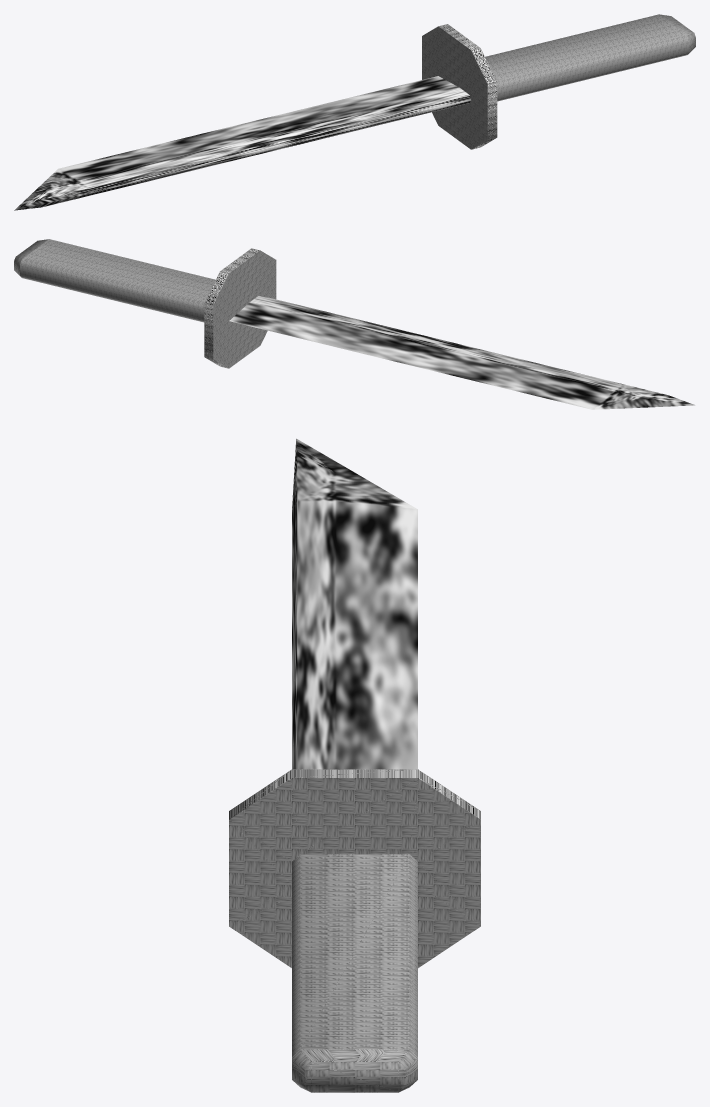
Rendered from kaiken dagger.fbx.
The picture shows the model from 3 angles, top to bottom: view 1: azimuth 30°, elevation 25°; view 2: azimuth 150°, elevation 25°; view 3: azimuth 270°, elevation 25°; orthographic projection. The views are drawn at different scales.
Parts seen in each view (by area): view 1: Dagger.Kaiken; view 2: Dagger.Kaiken; view 3: Dagger.Kaiken.
Part boxes in pixels (bbox=[...]): Dagger.Kaiken: bbox=[14, 14, 695, 210]; Dagger.Kaiken: bbox=[14, 239, 694, 409]; Dagger.Kaiken: bbox=[229, 438, 480, 1092].
Bounding box in the file's own units: 36 × 5 × 6.
